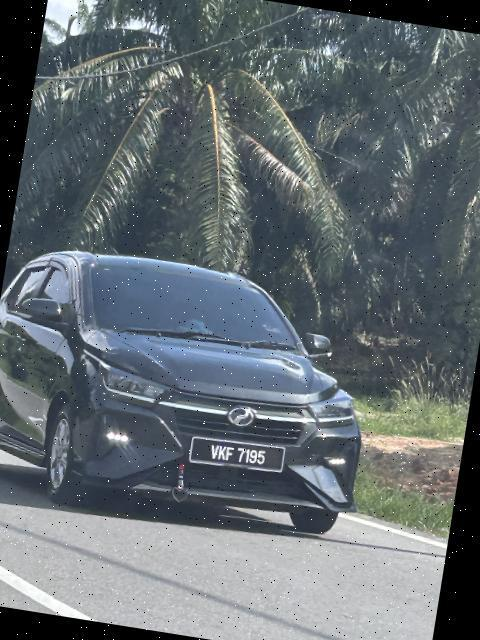License_Plate: (189, 434, 288, 478)
VKF9195: (189, 434, 288, 478)
car: (1, 236, 391, 545)
